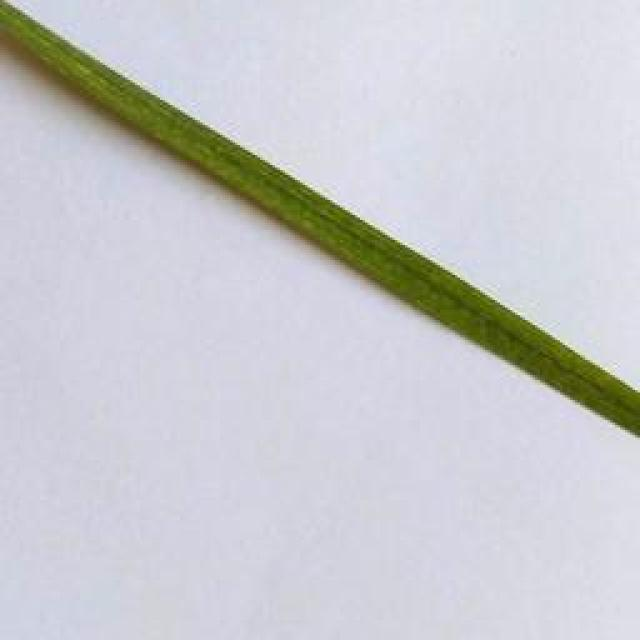Healthy-Plant: (0, 0, 640, 437)
